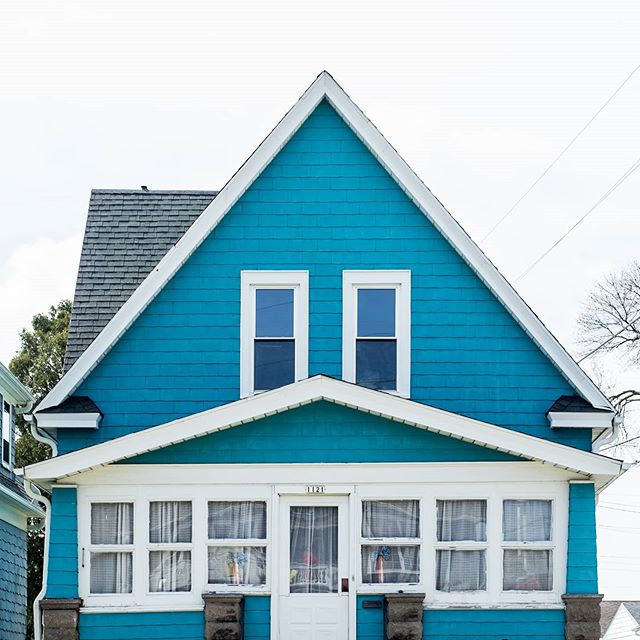building: (45, 95, 613, 640)
sky: (350, 1, 640, 269), (8, 1, 237, 180)
